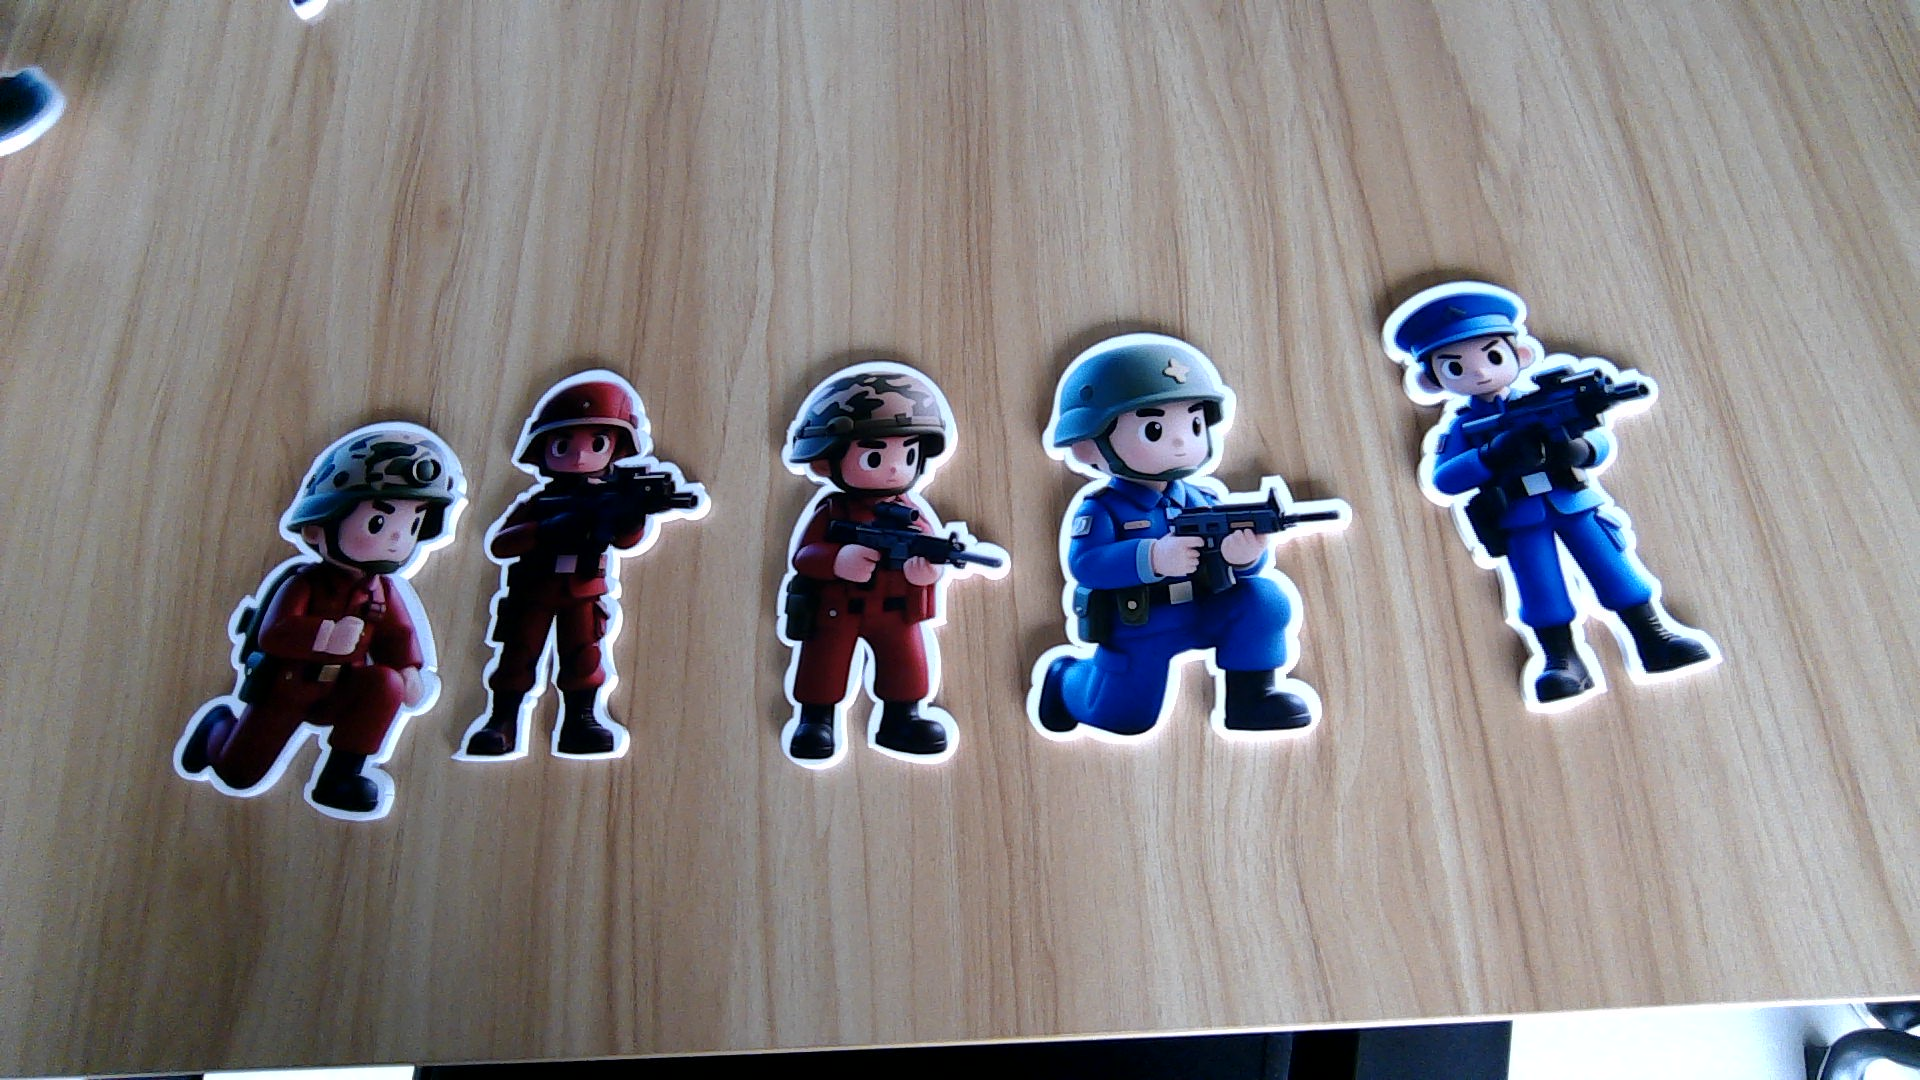敌人1: (161, 564, 440, 819), (469, 477, 707, 762), (773, 501, 989, 771)
敌人2: (1396, 405, 1724, 708), (1022, 477, 1345, 742)
